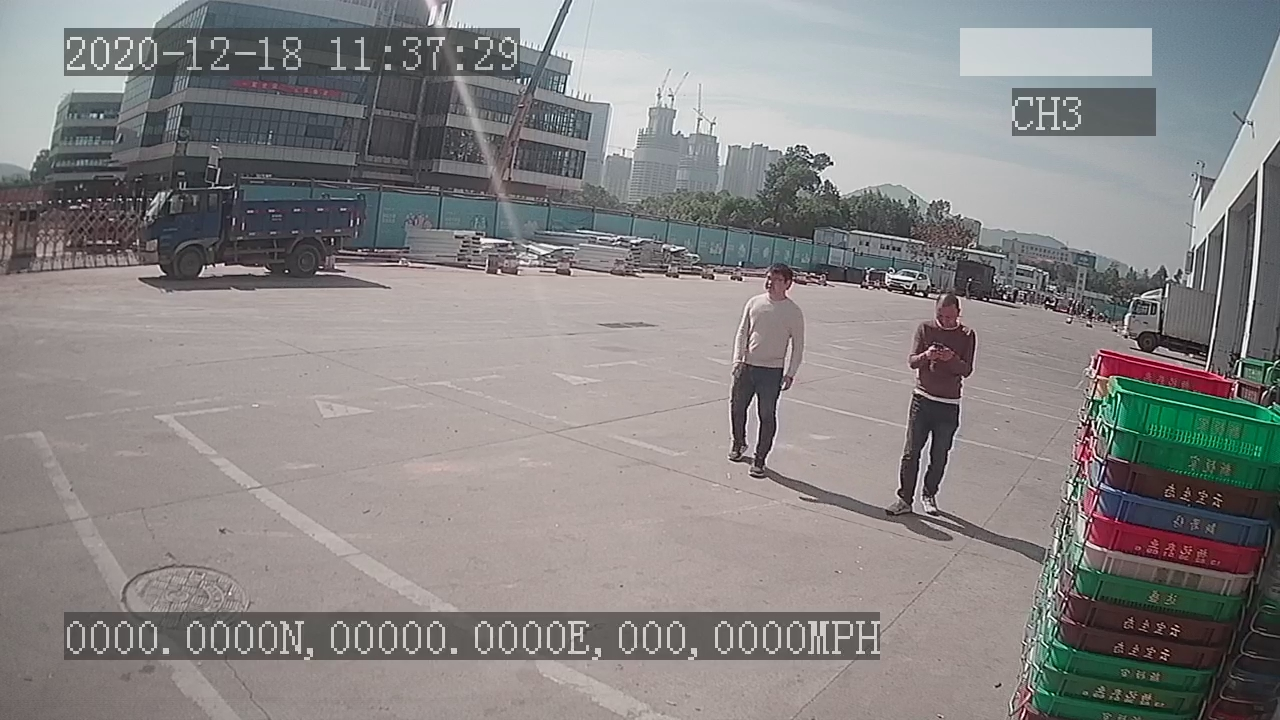person: (882, 290, 977, 523), (722, 261, 807, 486)
